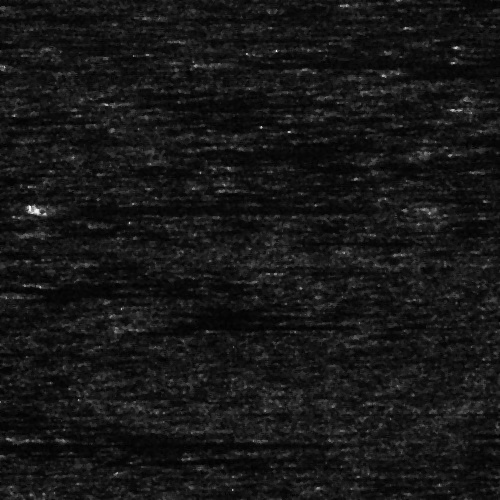object: (103, 310, 218, 339), (438, 103, 500, 114), (0, 286, 50, 299), (320, 0, 413, 5), (172, 59, 235, 66), (129, 311, 202, 316), (36, 203, 57, 212), (26, 280, 57, 285), (172, 37, 213, 40), (112, 99, 133, 104), (492, 156, 500, 169)
shadow: (160, 310, 358, 339), (0, 280, 193, 299), (3, 286, 197, 299), (47, 203, 316, 212), (204, 59, 500, 66), (123, 99, 337, 104), (165, 311, 365, 316), (41, 280, 238, 285), (367, 0, 500, 5), (0, 248, 89, 255), (53, 230, 185, 233), (0, 10, 39, 19), (475, 103, 500, 114), (192, 37, 265, 40), (0, 0, 35, 2)
